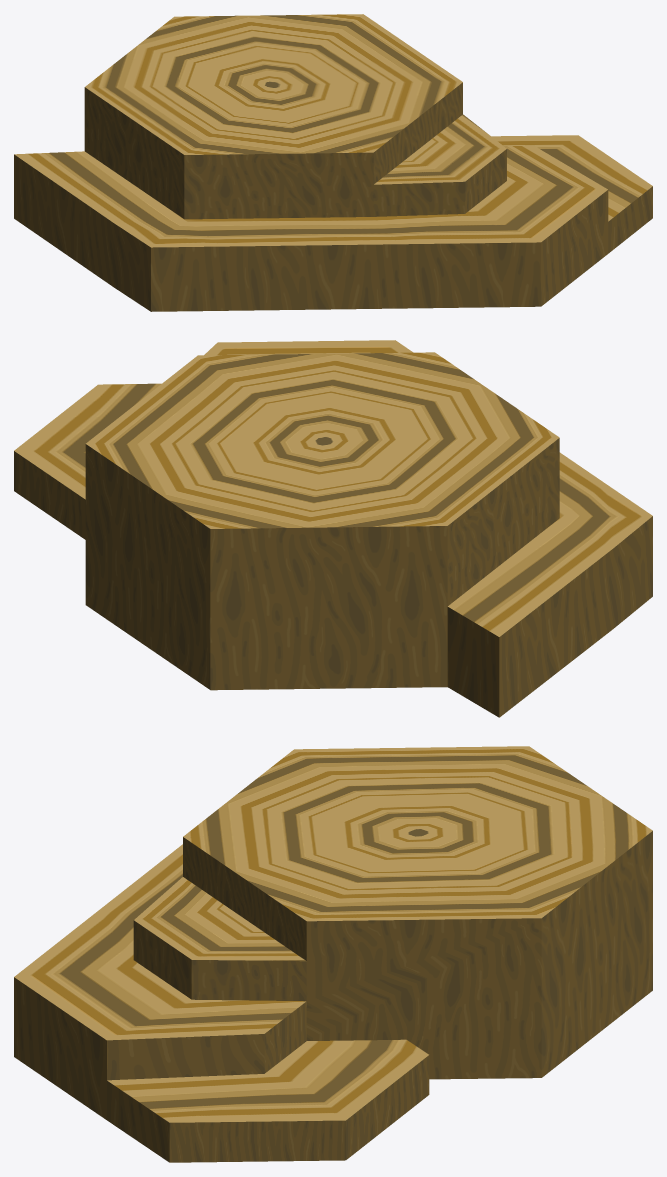
Rendered from UzumakiStump 1.fbx.
3 renders of one model, top to bottom at view 1: azimuth 30°, elevation 25°; view 2: azimuth 150°, elevation 25°; view 3: azimuth 270°, elevation 25°, orthographic. The views are drawn at different scales.
Parts seen in each view (by area): view 1: Cylinder.025; view 2: Cylinder.025; view 3: Cylinder.025.
Part boxes in pixels (x1,y1,x2,y2): Cylinder.025: (14, 14, 652, 311); Cylinder.025: (14, 340, 652, 717); Cylinder.025: (14, 746, 652, 1162).
Size of the model in its own units: 2367 by 607 by 2199.
